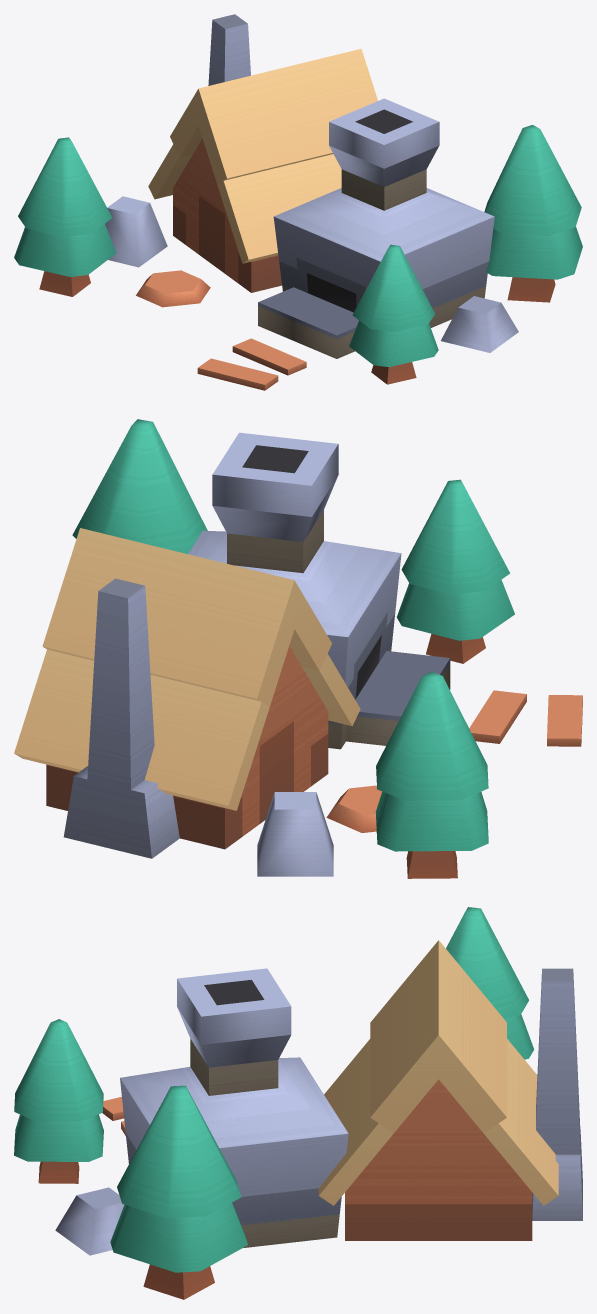
The model's file is hx_building-smelter.glb.
3 renders of one model, top to bottom at view 1: azimuth 30°, elevation 25°; view 2: azimuth 150°, elevation 25°; view 3: azimuth 270°, elevation 25°, orthographic. The views are drawn at different scales.
Size of the model in its own units: 0.9668 by 0.4 by 0.9111.
1 material, 1 textured.
